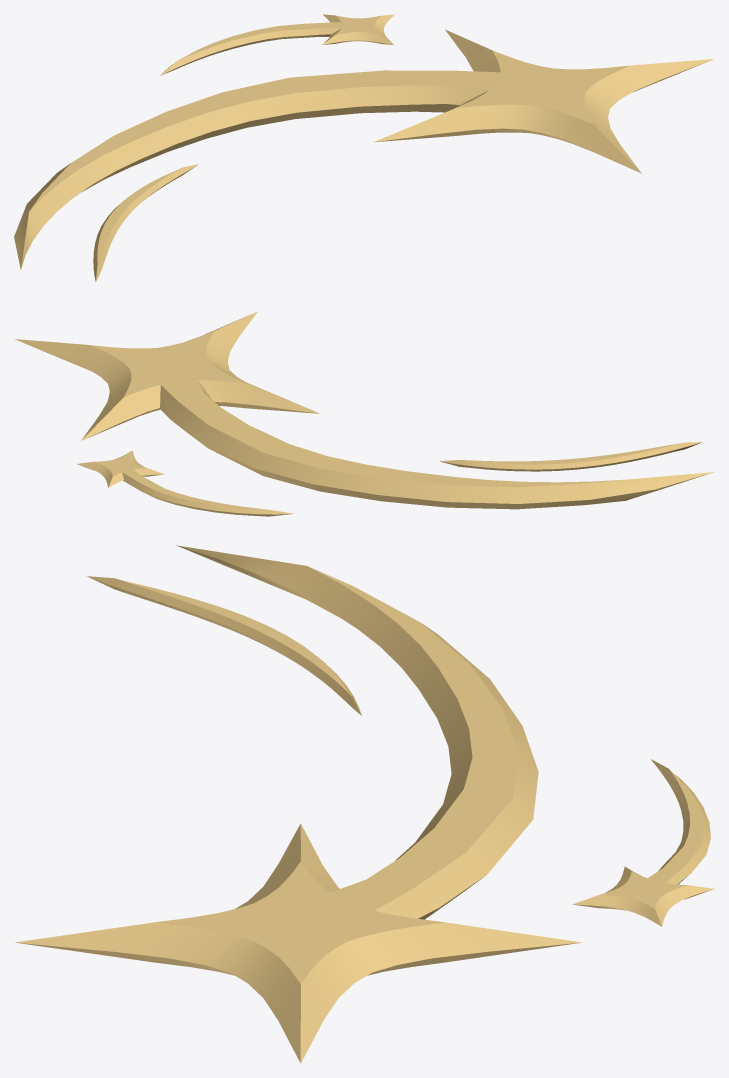
File: Sigil28.fbx
3 views of the same model, one above another, from view 1: azimuth 30°, elevation 25°; view 2: azimuth 150°, elevation 25°; view 3: azimuth 270°, elevation 25° (orthographic). The views are drawn at different scales.
Parts seen in each view (by area): view 1: Sigil_28; view 2: Sigil_28; view 3: Sigil_28.
Part boxes in pixels (x1,y1,x2,y2): Sigil_28: (14, 14, 713, 281); Sigil_28: (14, 311, 714, 516); Sigil_28: (14, 545, 714, 1063).
Size of the model in its own units: 0.106 by 0.00382 by 0.0606.
